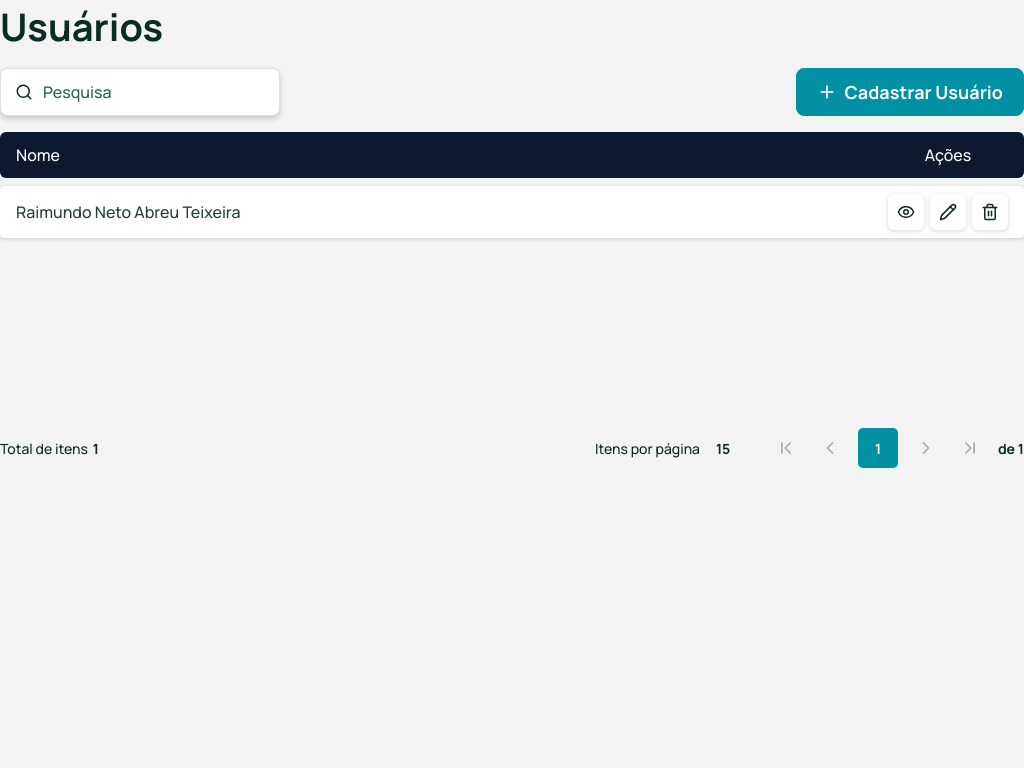
Scenario: UsersPage › exclui após confirmar em "Sim" e mostra "Exclusão Realizada!"
Click the button named "Excluir Raimundo Neto Abreu Teixeira": (990, 212) [972,194,1008,230]
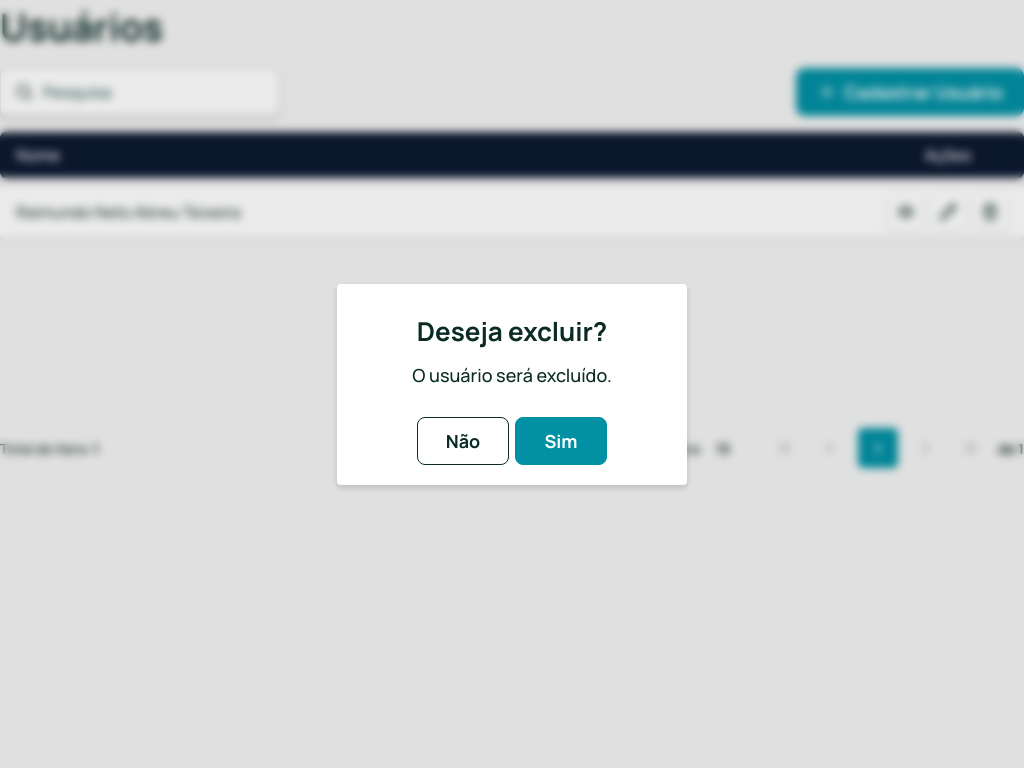
Expected: the text "O usuário será excluído." is shown, [412,362,612,386]
Click the button "Sim": (561, 440) [515,416,607,464]
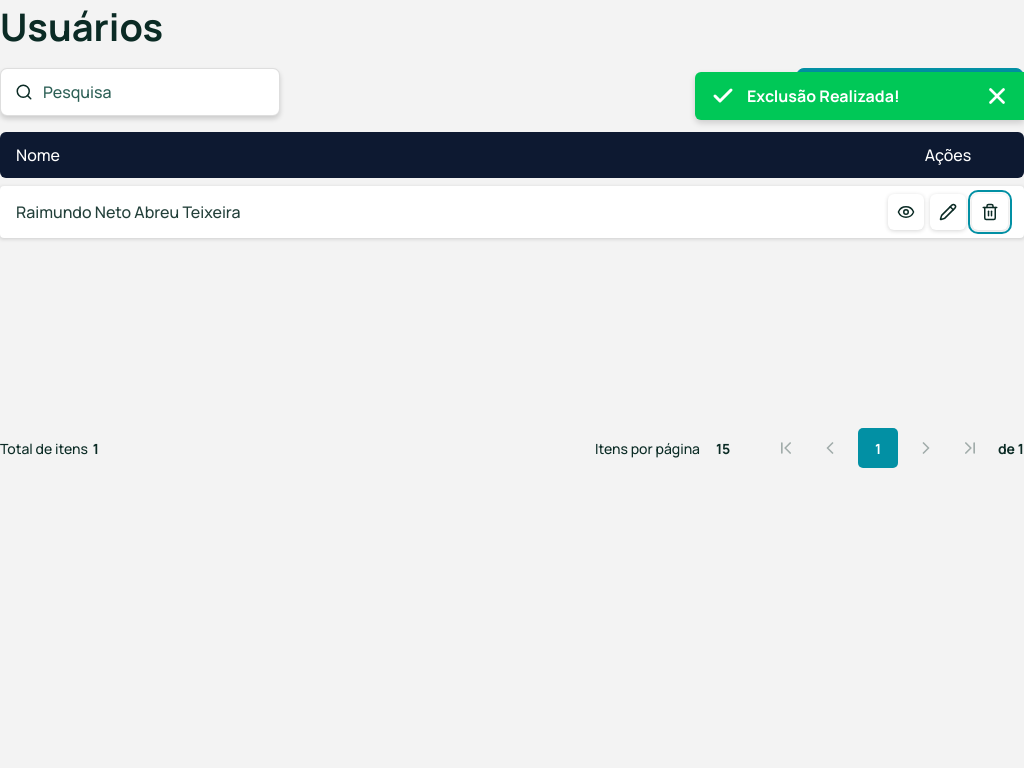
Expected: the text "Exclusão Realizada!" is shown, [747,85,900,107]
